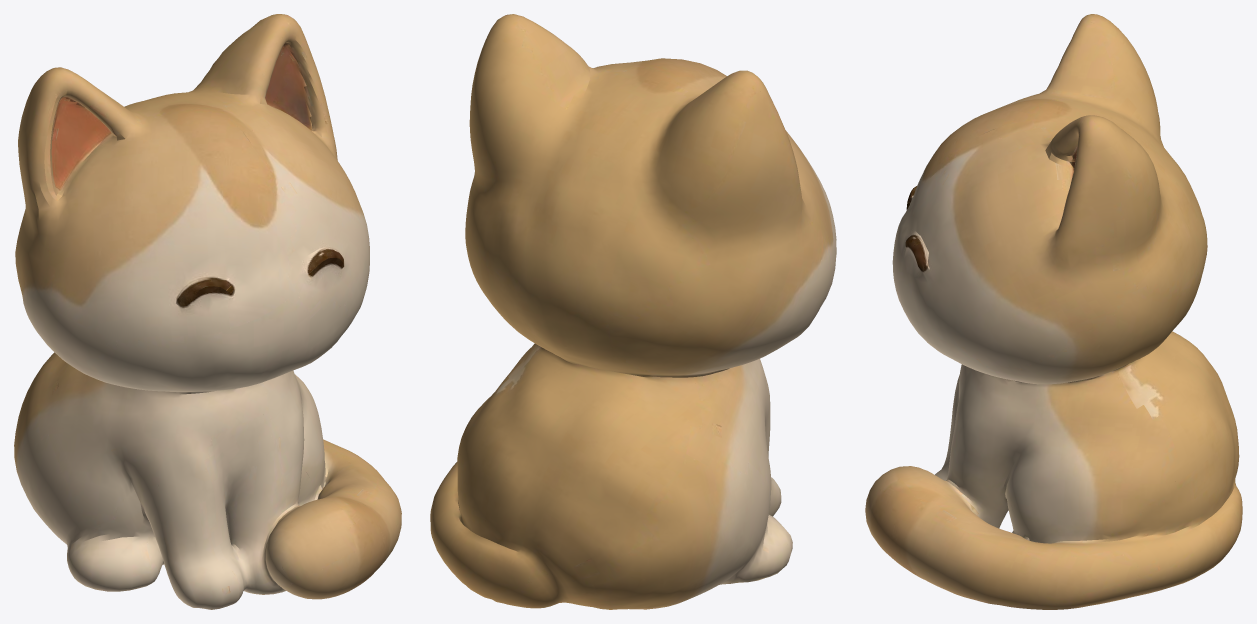
Rendered from Meshy_AI_model.glb.
3 renders of one model, left to right at view 1: azimuth 30°, elevation 25°; view 2: azimuth 150°, elevation 25°; view 3: azimuth 270°, elevation 25°, orthographic. The views are drawn at different scales.
Parts seen in each view (by area): view 1: Mesh0; view 2: Mesh0; view 3: Mesh0.
Boxes of the visible parts, x1,y1,x2,y2 form: Mesh0: (14, 14, 401, 609); Mesh0: (430, 14, 836, 609); Mesh0: (865, 14, 1242, 609).
Bounding box in the file's own units: 1.36 × 1.9 × 1.4.
Materials: 1 (1 with a texture image).
